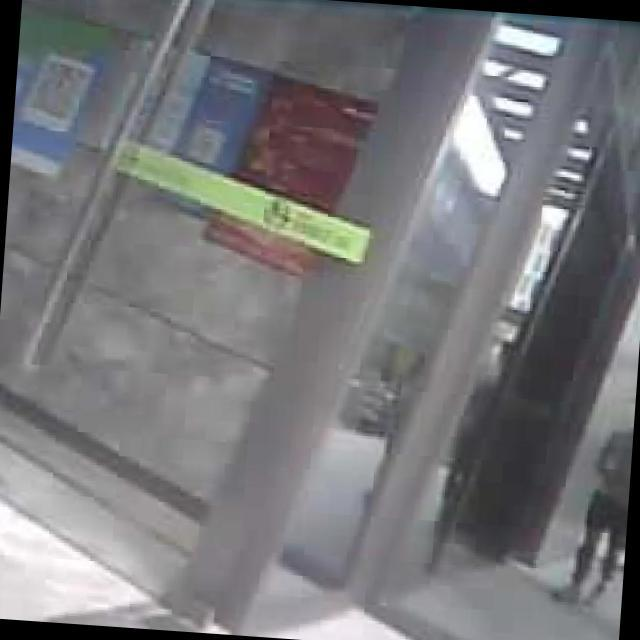person: (549, 412, 634, 607)
